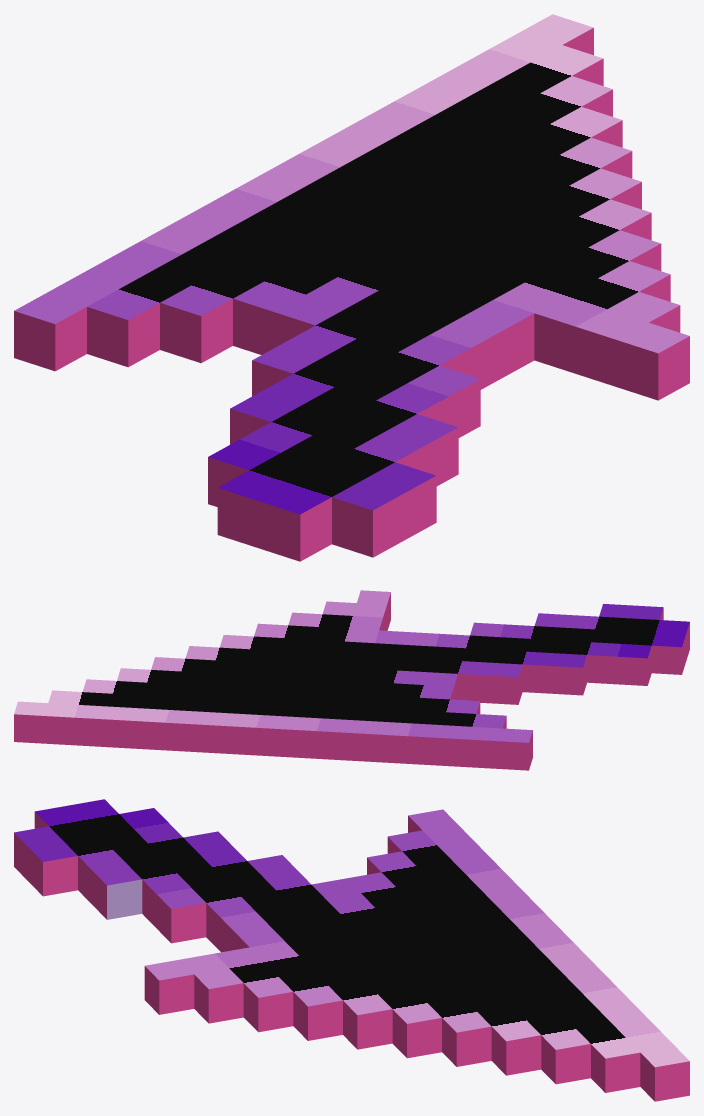
File: cursor.obj
3 views of the same model, one above another, from view 1: azimuth 30°, elevation 25°; view 2: azimuth 150°, elevation 25°; view 3: azimuth 270°, elevation 25° (orthographic). The views are drawn at different scales.
Visible parts, largest first — view 1: mesh; view 2: mesh; view 3: mesh.
Part boxes in pixels (x1,y1,x2,y2): mesh: (14,14,689,561); mesh: (14,590,689,770); mesh: (14,799,689,1101).
Size of the model in its own units: 1.05 by 0.0625 by 1.11.
Materials: 1 (1 with a texture image).
